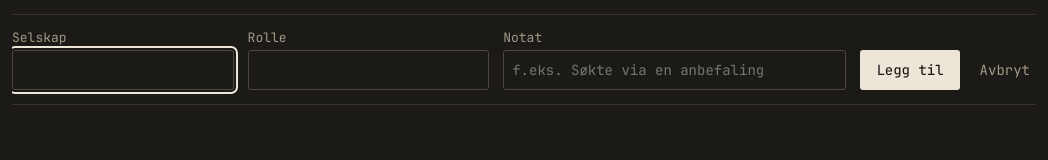
Test: applications in bokmål › should ask for a company in bokmål
Click the button "Legg til". click: (910, 70)
box: [860,50,960,90]
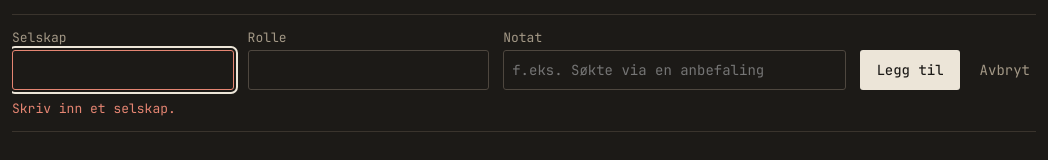
Now the message reads "Skriv inn et selskap.", box [12,100,176,117]
